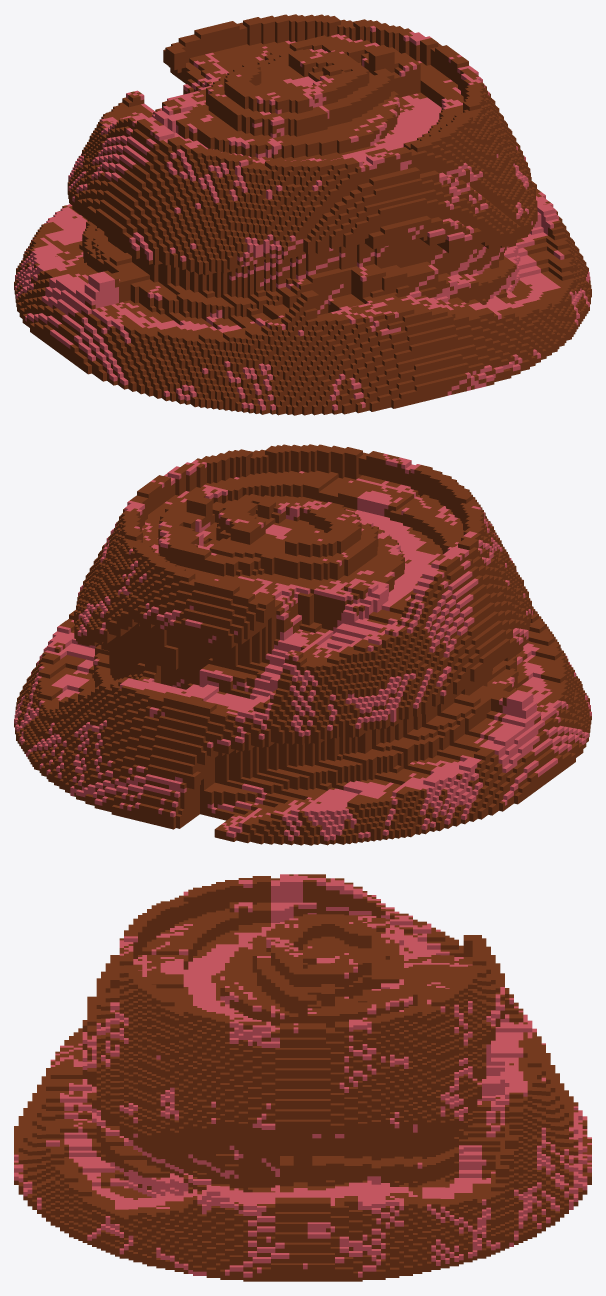
File: Montagne.obj
3 renders of one model, top to bottom at view 1: azimuth 30°, elevation 25°; view 2: azimuth 150°, elevation 25°; view 3: azimuth 270°, elevation 25°, orthographic. The views are drawn at different scales.
Size of the model in its own units: 12.6 by 5.3 by 12.6.
1 material, 1 textured.
